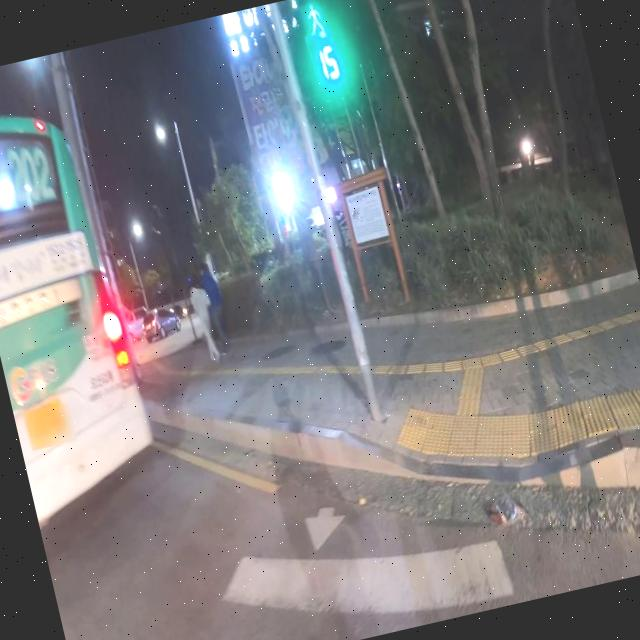crosswalk: (197, 488, 520, 640)
